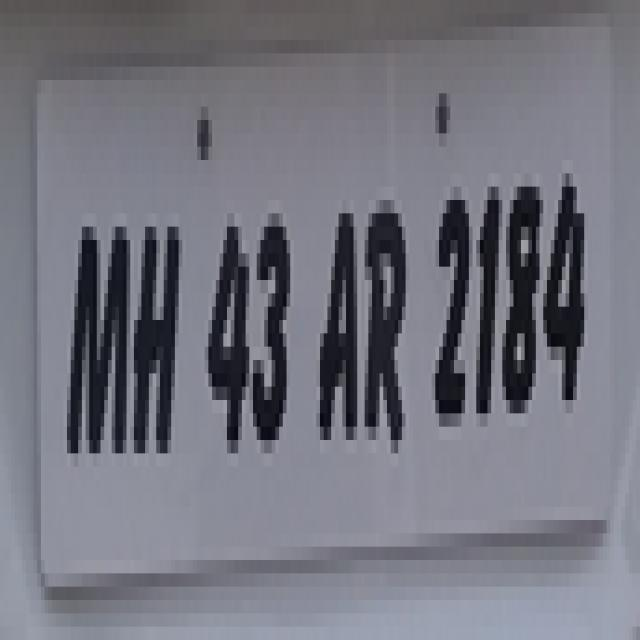1: (472, 175, 504, 438)
3: (250, 210, 296, 493)
4: (198, 198, 254, 468), (542, 154, 590, 427)
8: (501, 164, 546, 472)
A: (314, 194, 364, 456)
H: (132, 212, 178, 486)
M: (64, 186, 132, 473)
R: (366, 180, 412, 473)
